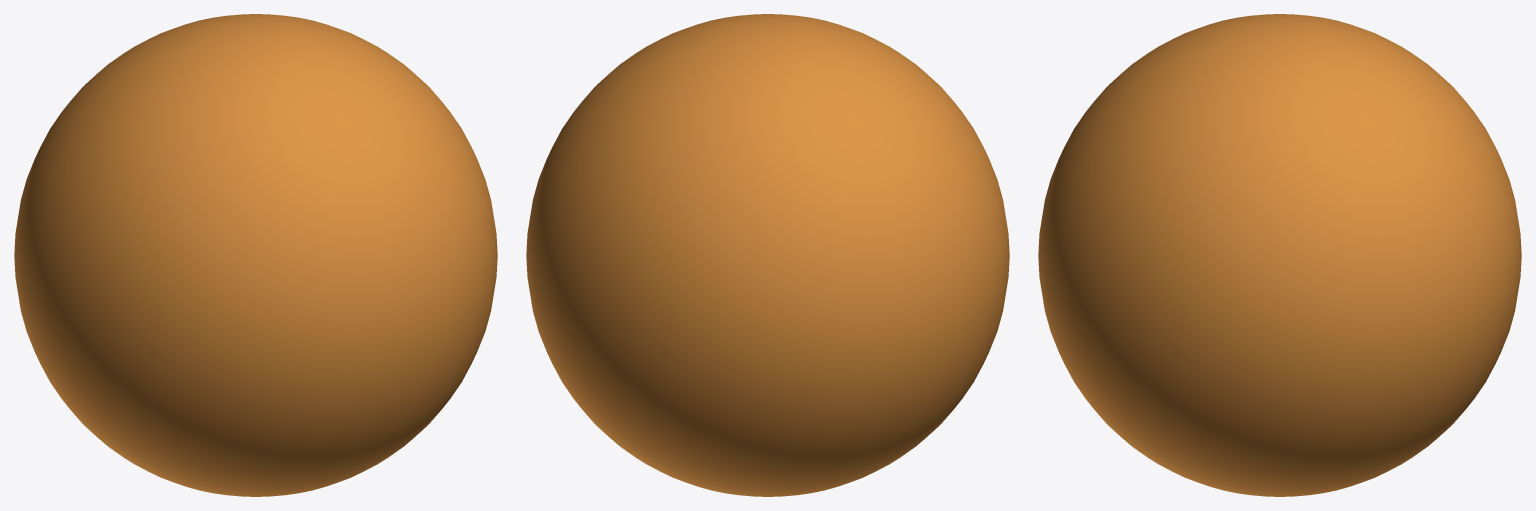
The model's file is bowling_ball.glb.
The picture shows the model from 3 angles, left to right: view 1: azimuth 30°, elevation 25°; view 2: azimuth 150°, elevation 25°; view 3: azimuth 270°, elevation 25°; orthographic projection.
Parts seen in each view (by area): view 1: bowling_ball.obj; view 2: bowling_ball.obj; view 3: bowling_ball.obj.
Boxes of the visible parts, <box> form: bowling_ball.obj: <box>14,14,497,496</box>; bowling_ball.obj: <box>526,14,1009,496</box>; bowling_ball.obj: <box>1038,14,1521,496</box>.
Bounding box in the file's own units: 0.216 × 0.216 × 0.216.
